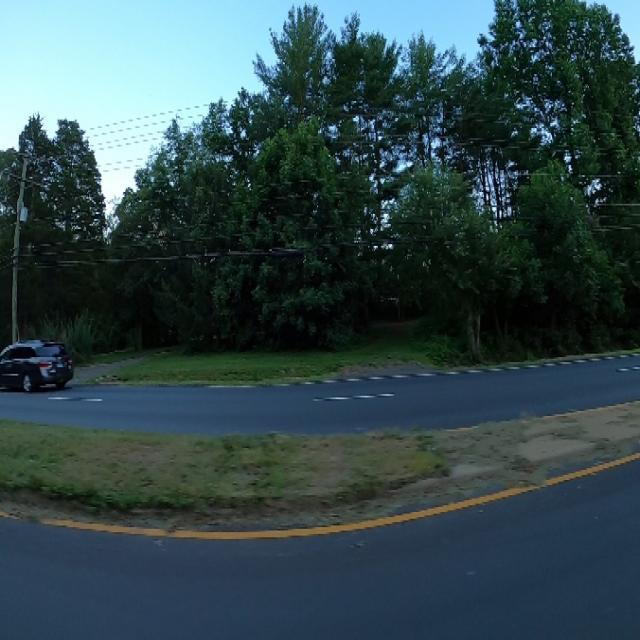car: (0, 316, 80, 419)
